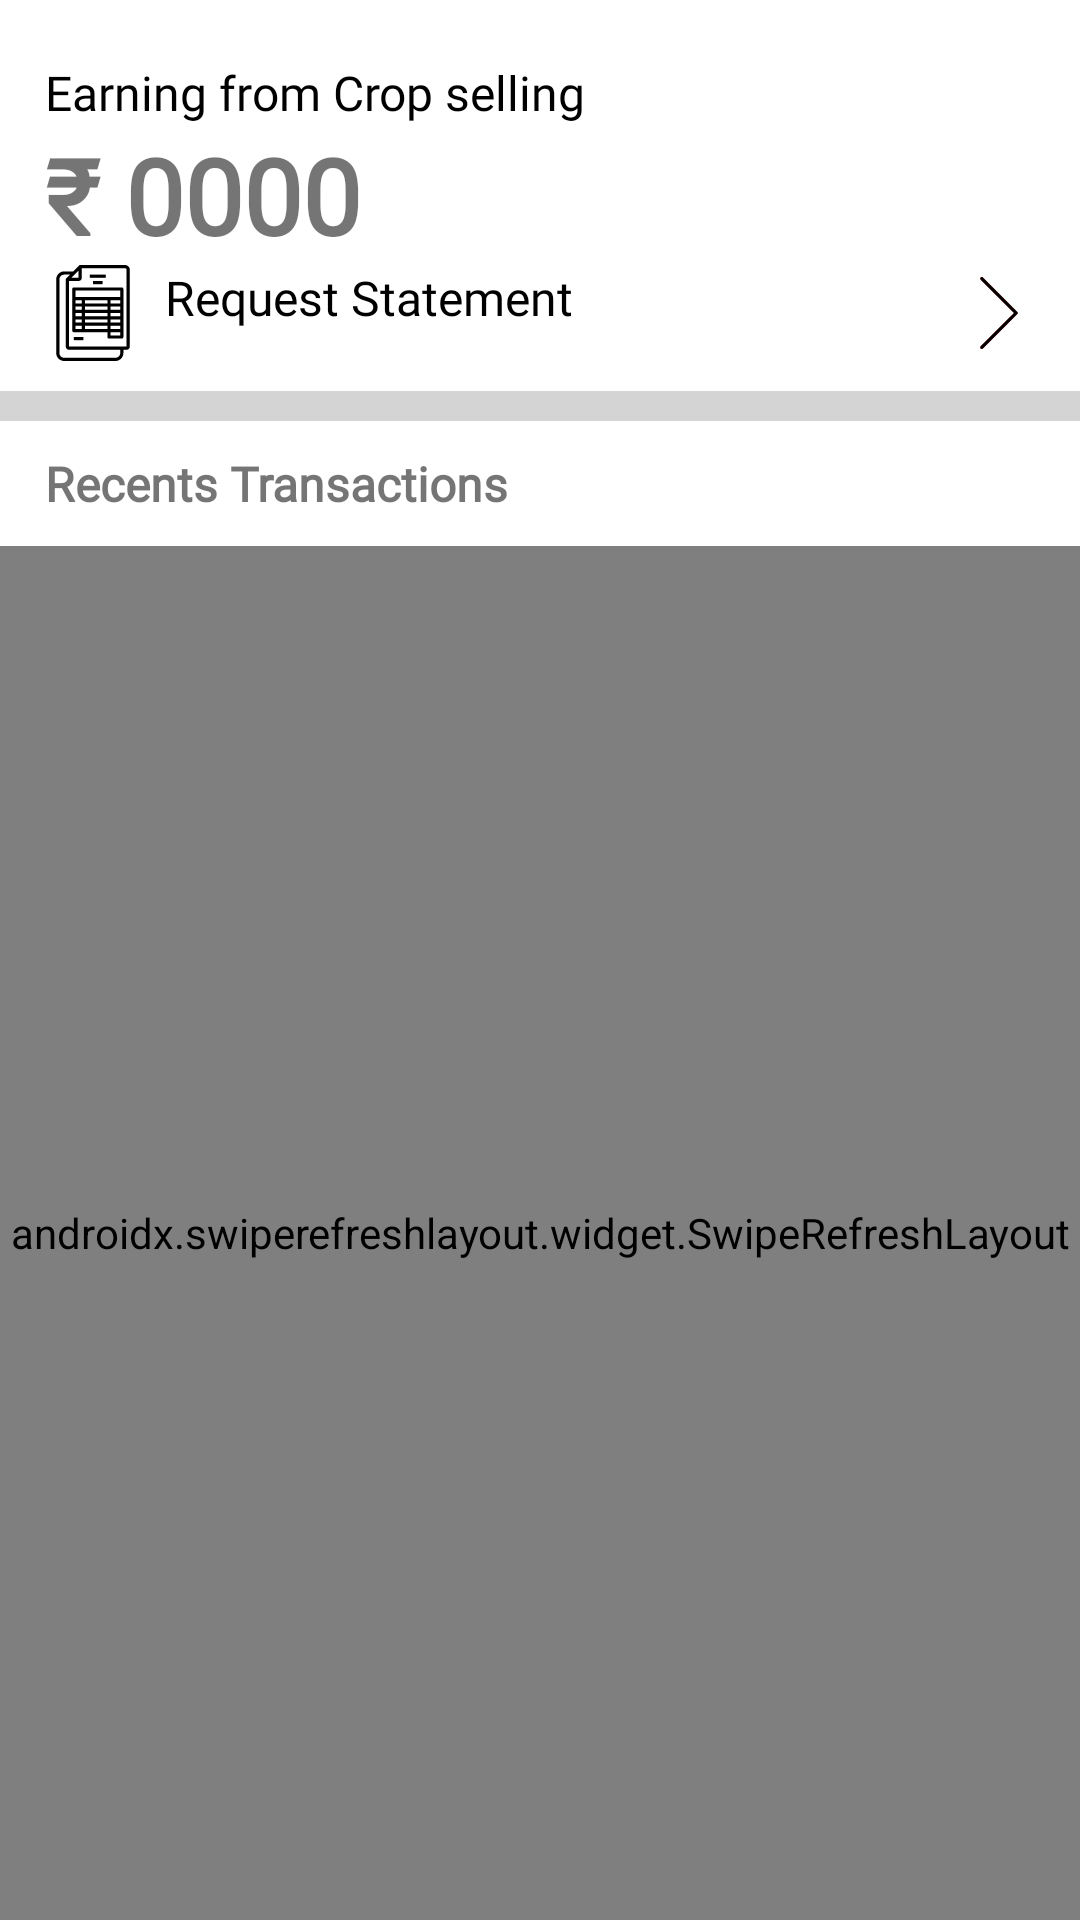

Where to tap for icons on this 1080 x 1920 app screen, as [x,y]:
next: [999,313]
